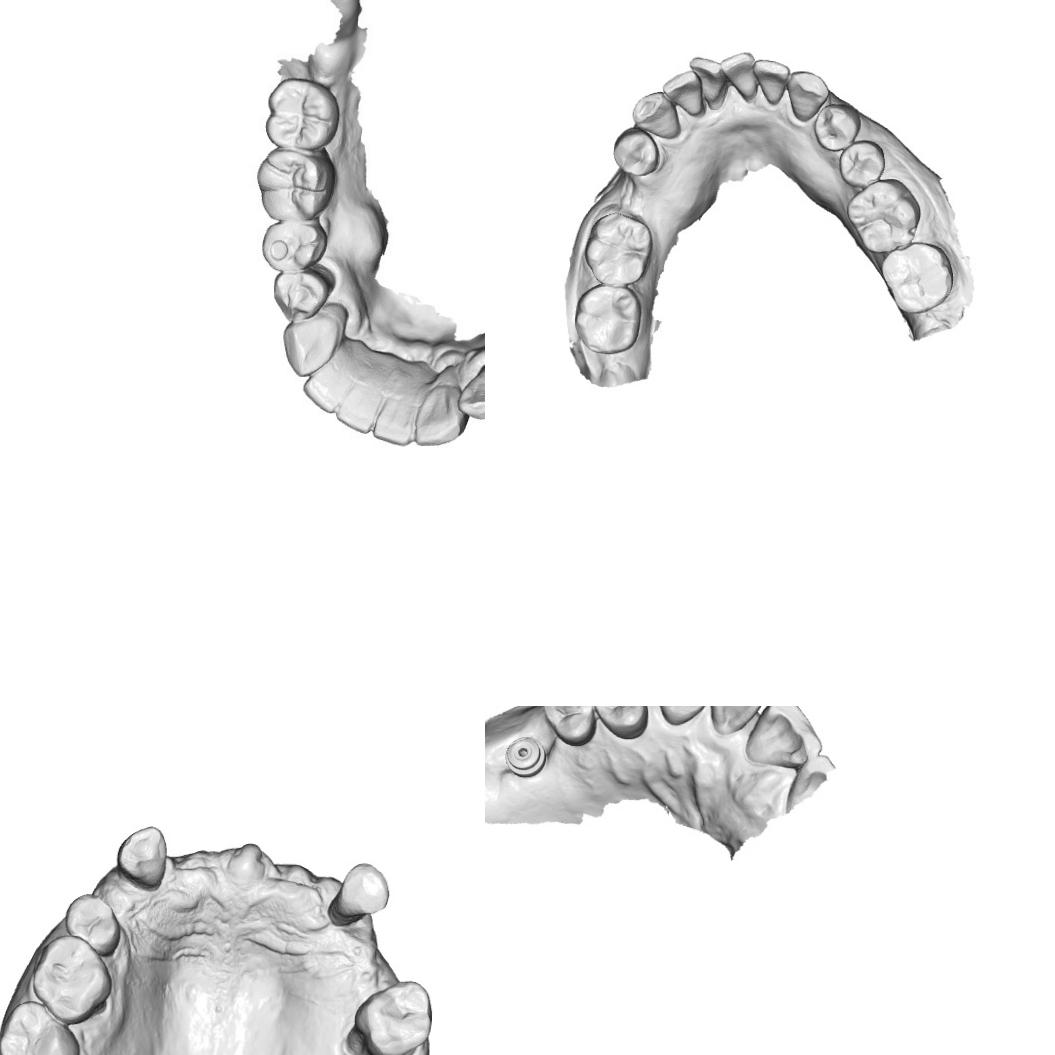canine: (277, 304, 349, 378), (327, 861, 391, 928), (116, 824, 168, 892), (630, 89, 683, 141), (785, 70, 830, 124), (458, 363, 485, 421), (652, 706, 714, 727)
implant: (502, 737, 545, 778)
incisor: (743, 706, 823, 768), (408, 379, 466, 449), (372, 376, 420, 448), (303, 360, 354, 414), (332, 374, 378, 432), (660, 68, 706, 118), (718, 50, 760, 98), (750, 58, 790, 106), (686, 55, 726, 103), (708, 706, 765, 735)
molar: (30, 934, 113, 1026), (254, 148, 342, 226), (346, 978, 433, 1055), (844, 176, 922, 256), (266, 78, 346, 153), (878, 240, 955, 315), (584, 211, 652, 286), (573, 283, 642, 355), (0, 999, 82, 1055)
premolar: (264, 263, 336, 319), (64, 892, 122, 958), (258, 218, 324, 274), (836, 138, 887, 190), (812, 102, 862, 154), (612, 126, 660, 178), (539, 706, 598, 746), (588, 706, 649, 742)
